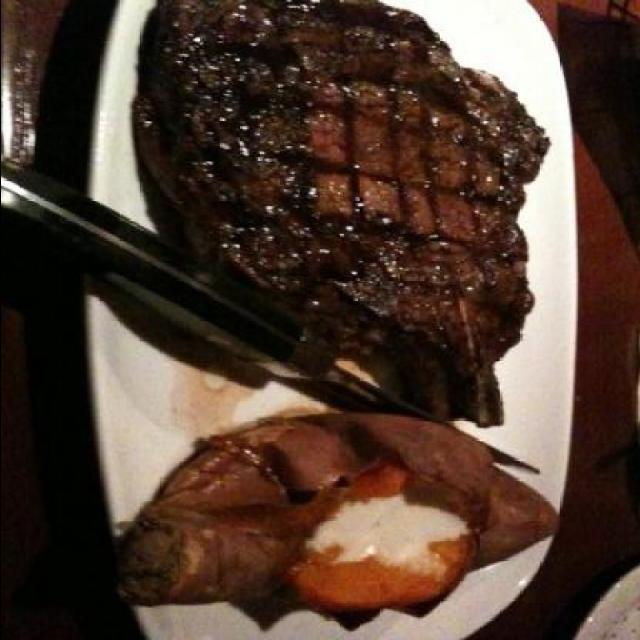Steak: (222, 43, 530, 354), (117, 434, 586, 618)
